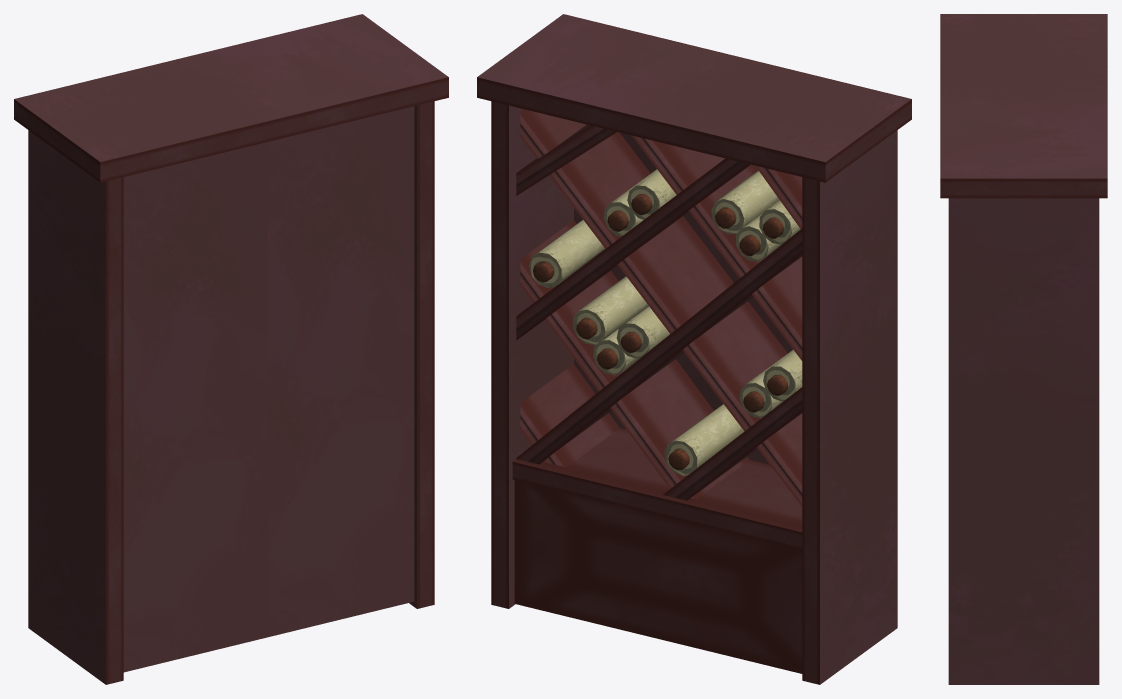
The model's file is AO Scroll Shelf.fbx.
The picture shows the model from 3 angles, left to right: view 1: azimuth 30°, elevation 25°; view 2: azimuth 150°, elevation 25°; view 3: azimuth 270°, elevation 25°; orthographic projection. The views are drawn at different scales.
Parts seen in each view (by area): view 1: Scroll Shelf_LOD0; view 2: Scroll Shelf_LOD0; view 3: Scroll Shelf_LOD0.
Boxes of the visible parts, box(x1,y1,x2,y2) form: Scroll Shelf_LOD0: box(14, 14, 448, 684); Scroll Shelf_LOD0: box(477, 14, 911, 684); Scroll Shelf_LOD0: box(940, 14, 1107, 684).
Size of what is drawn, in the model's own units: 353 by 511 by 151.
